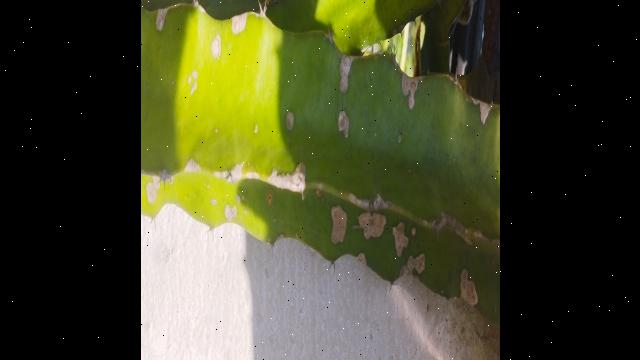stemcanker: (357, 208, 387, 241), (457, 267, 481, 308), (328, 205, 349, 247), (334, 51, 353, 95), (391, 223, 410, 260), (401, 77, 419, 112), (335, 108, 353, 141), (208, 33, 224, 61)
